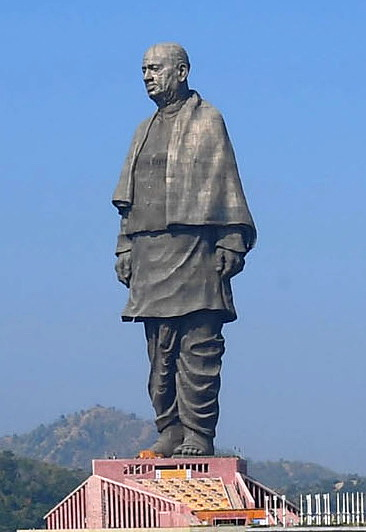person-like: (105, 37, 266, 461)
